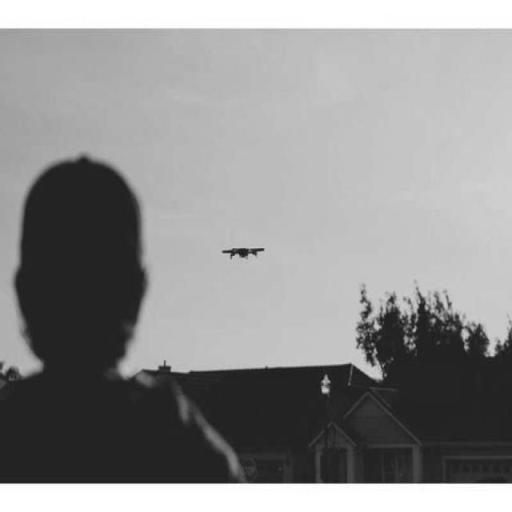uav: (222, 246, 266, 264)
